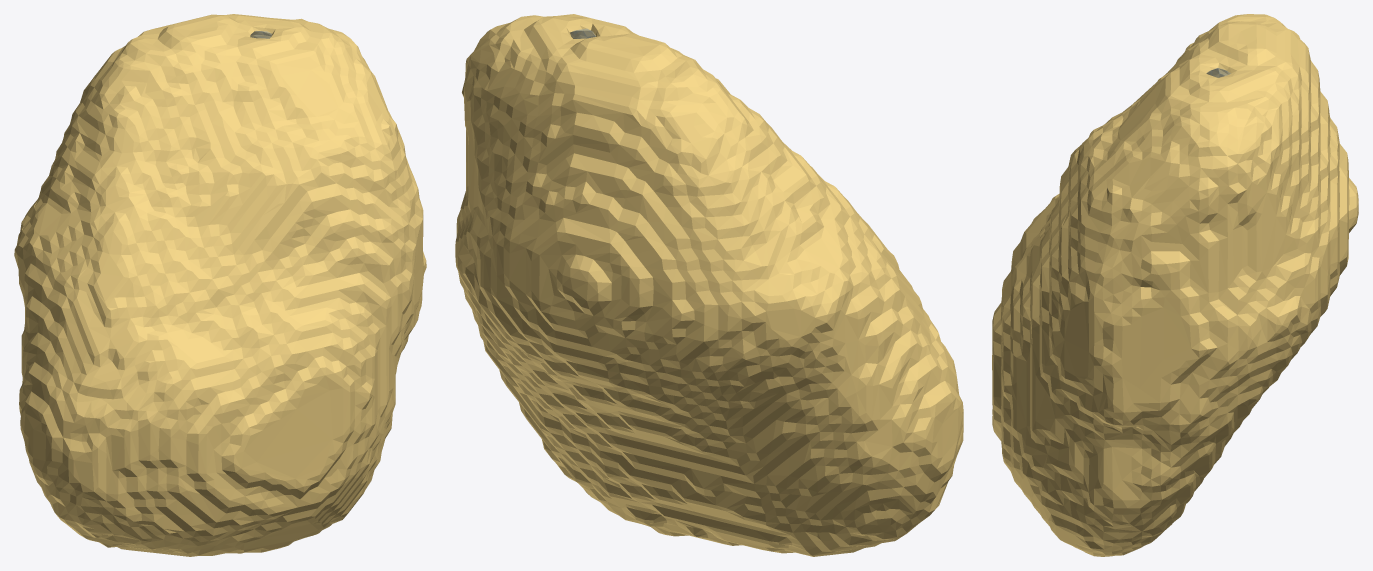
The model's file is prompt.glb.
3 views of the same model, side by side, from view 1: azimuth 30°, elevation 25°; view 2: azimuth 150°, elevation 25°; view 3: azimuth 270°, elevation 25° (orthographic). The views are drawn at different scales.
Visible parts, largest first — view 1: world; view 2: world; view 3: world.
Boxes of the visible parts, x1,y1,x2,y2 form: world: [14, 14, 426, 556]; world: [455, 14, 963, 556]; world: [992, 14, 1358, 556].
Size of the model in its own units: 0.7684 by 0.8936 by 0.5965.
